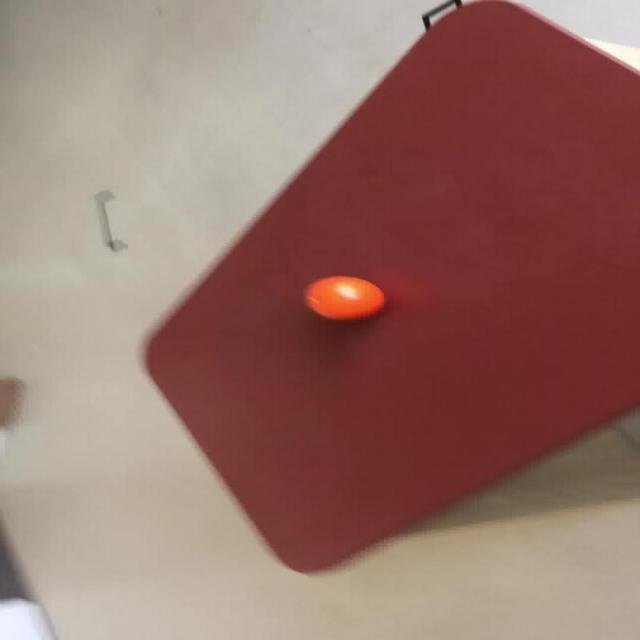Orange: (302, 275, 385, 320)
